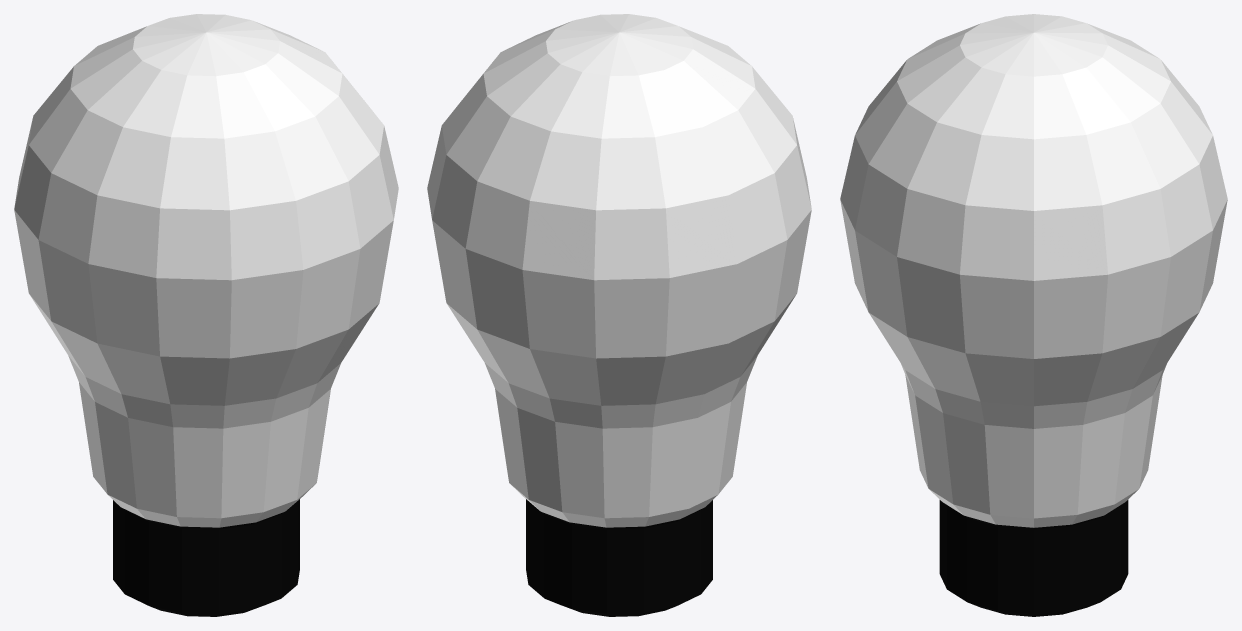
File: light.obj
The picture shows the model from 3 angles, left to right: view 1: azimuth 30°, elevation 25°; view 2: azimuth 150°, elevation 25°; view 3: azimuth 270°, elevation 25°; orthographic projection.
Parts seen in each view (by area): view 1: Sphere; view 2: Sphere; view 3: Sphere.
Boxes of the visible parts, x1,y1,x2,y2 form: Sphere: (14,14,398,616); Sphere: (427,14,811,616); Sphere: (840,14,1227,616).
Bounding box in the file's own units: 1.26 × 2.02 × 1.26.
